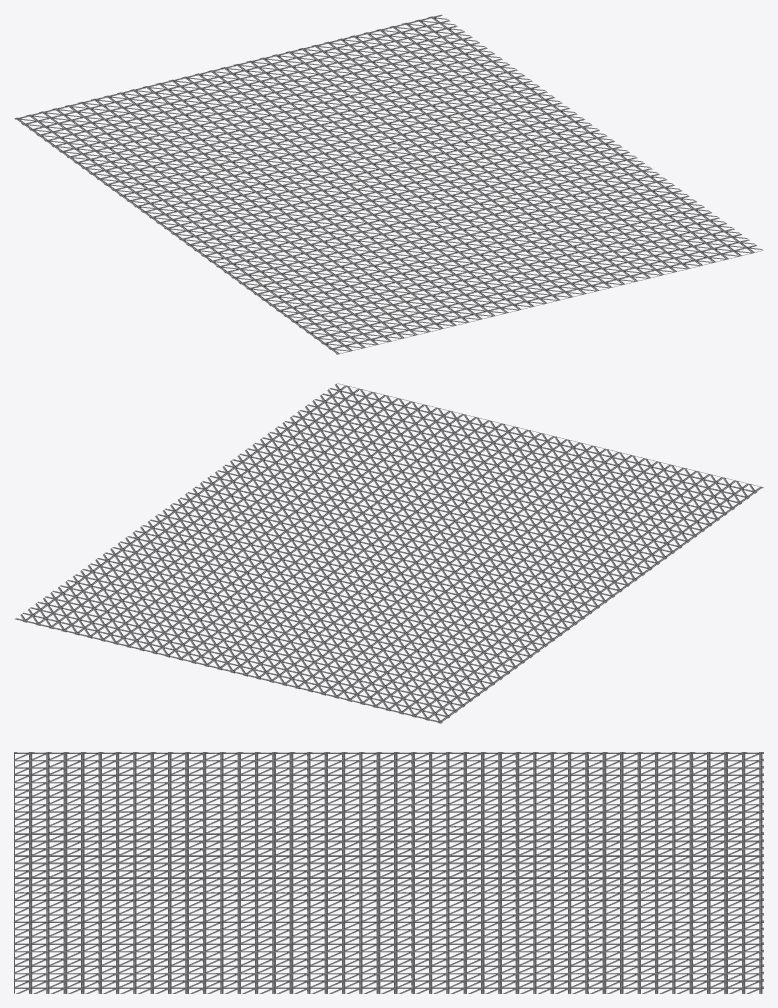
File: FUS0110025.fbx
3 renders of one model, top to bottom at view 1: azimuth 30°, elevation 25°; view 2: azimuth 150°, elevation 25°; view 3: azimuth 270°, elevation 25°, orthographic. The views are drawn at different scales.
Visible parts, largest first — view 1: smFUS0110025; view 2: smFUS0110025; view 3: smFUS0110025.
Boxes of the visible parts, x1=… form: smFUS0110025: x1=14, y1=14, x2=763, y2=354; smFUS0110025: x1=14, y1=383, x2=763, y2=723; smFUS0110025: x1=14, y1=752, x2=763, y2=993.
Bounding box in the file's own units: 5841 × 0.000732 × 7652.
Materials: 1 (1 with a texture image).
